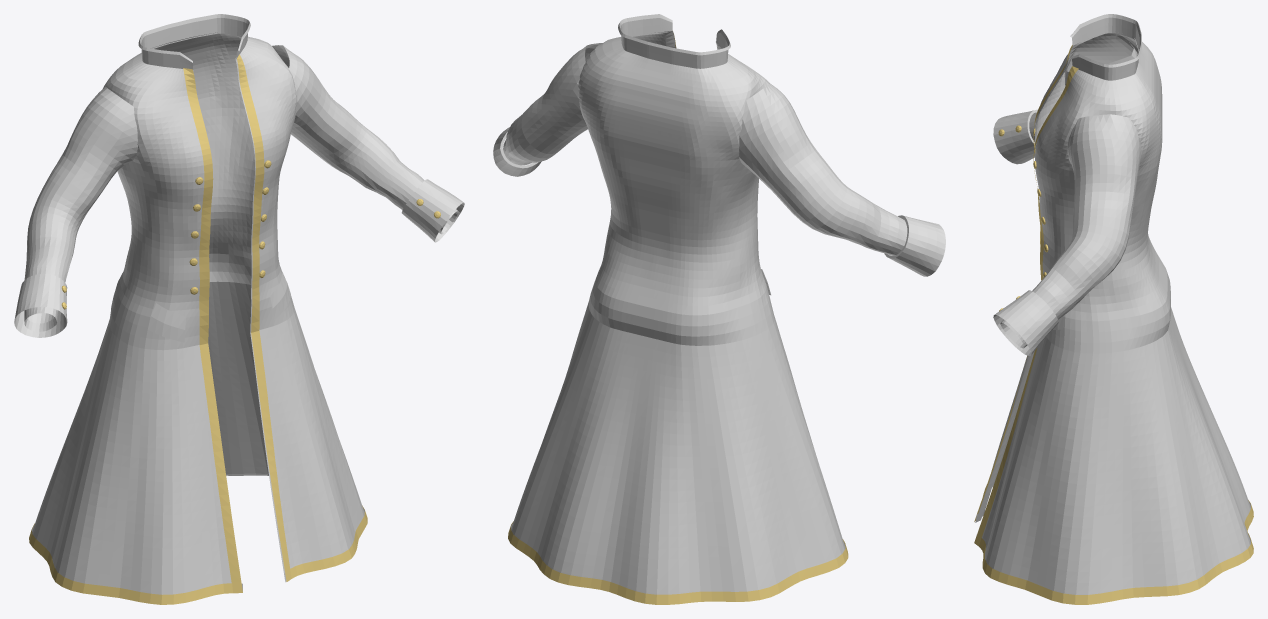
Rendered from ewb_pirate.glb.
3 views of the same model, side by side, from view 1: azimuth 30°, elevation 25°; view 2: azimuth 150°, elevation 25°; view 3: azimuth 270°, elevation 25° (orthographic). The views are drawn at different scales.
Parts seen in each view (by area): view 1: ewb_pirate; view 2: ewb_pirate; view 3: ewb_pirate.
Part boxes in pixels (x1=…): ewb_pirate: x1=14, y1=14, x2=464, y2=604; ewb_pirate: x1=493, y1=14, x2=945, y2=604; ewb_pirate: x1=974, y1=14, x2=1253, y2=604.
Bounding box in the file's own units: 1.15 × 1.24 × 0.6377.
